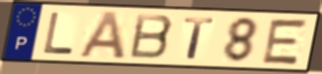8: (222, 16, 261, 65)
A: (76, 10, 128, 61)
B: (127, 12, 176, 61)
E: (259, 17, 312, 67)
L: (42, 10, 76, 56)
T: (182, 16, 217, 61)
